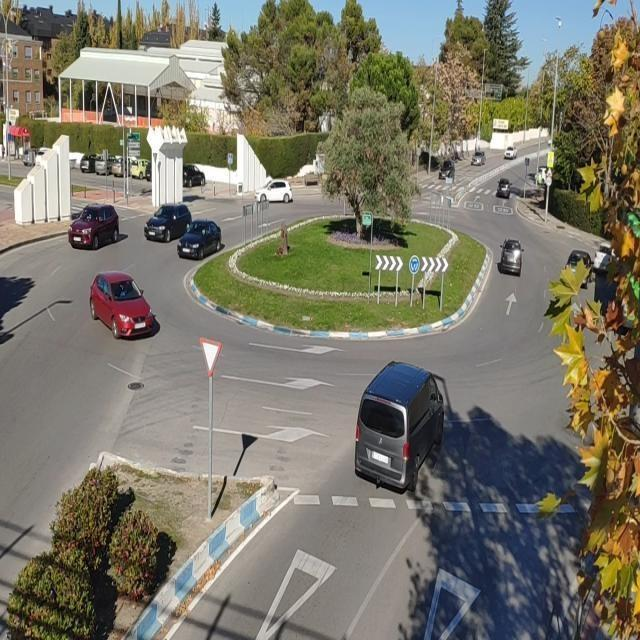Car: (348, 365, 457, 490), (90, 272, 160, 340), (67, 201, 121, 251), (141, 202, 190, 244), (178, 213, 219, 262), (497, 236, 533, 278), (254, 177, 296, 206), (565, 244, 593, 278), (592, 243, 616, 276), (434, 157, 463, 180), (494, 173, 518, 200), (467, 146, 489, 170), (500, 142, 521, 161)
